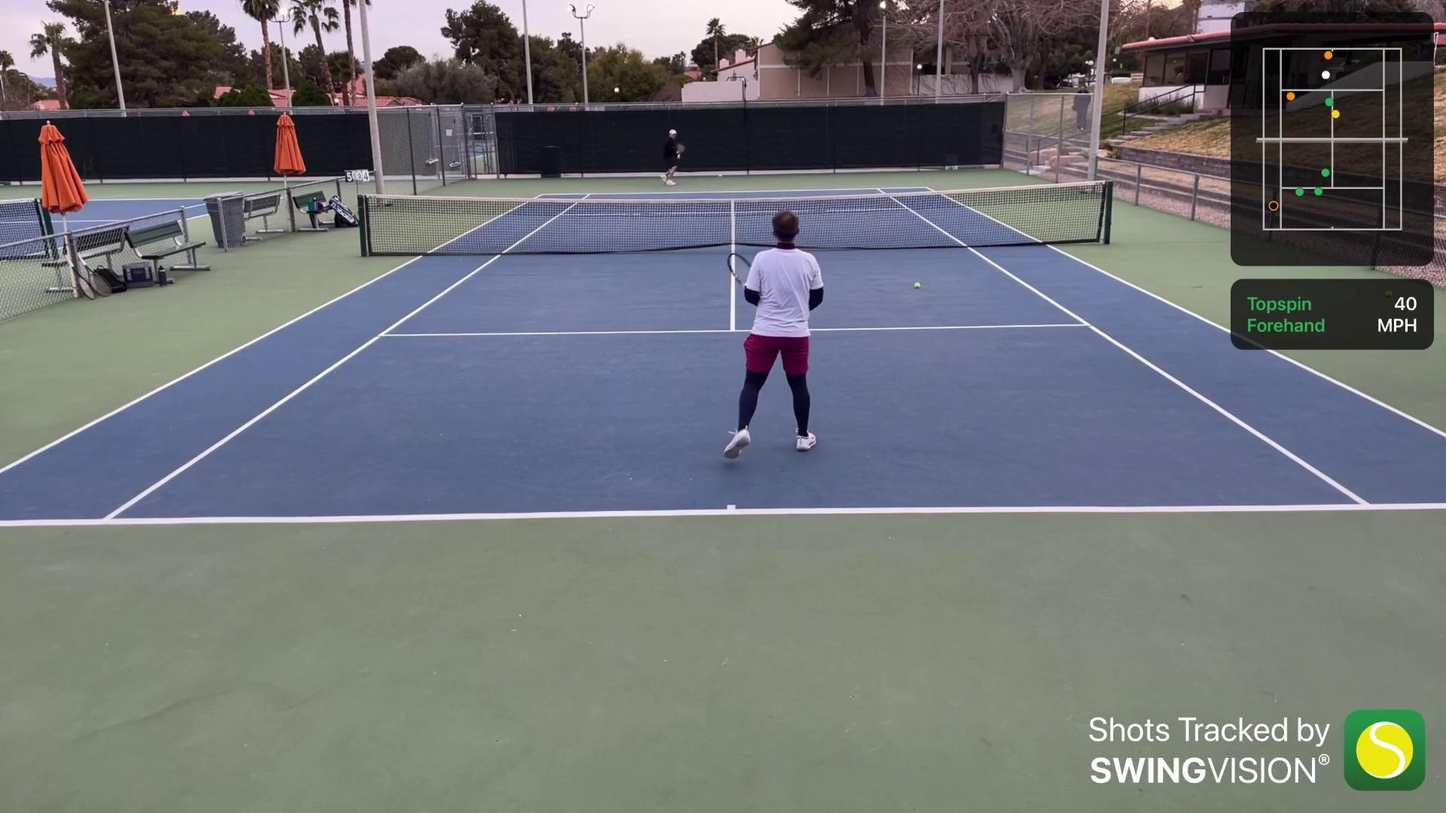ball: (911, 279, 921, 291), (717, 172, 723, 180)
